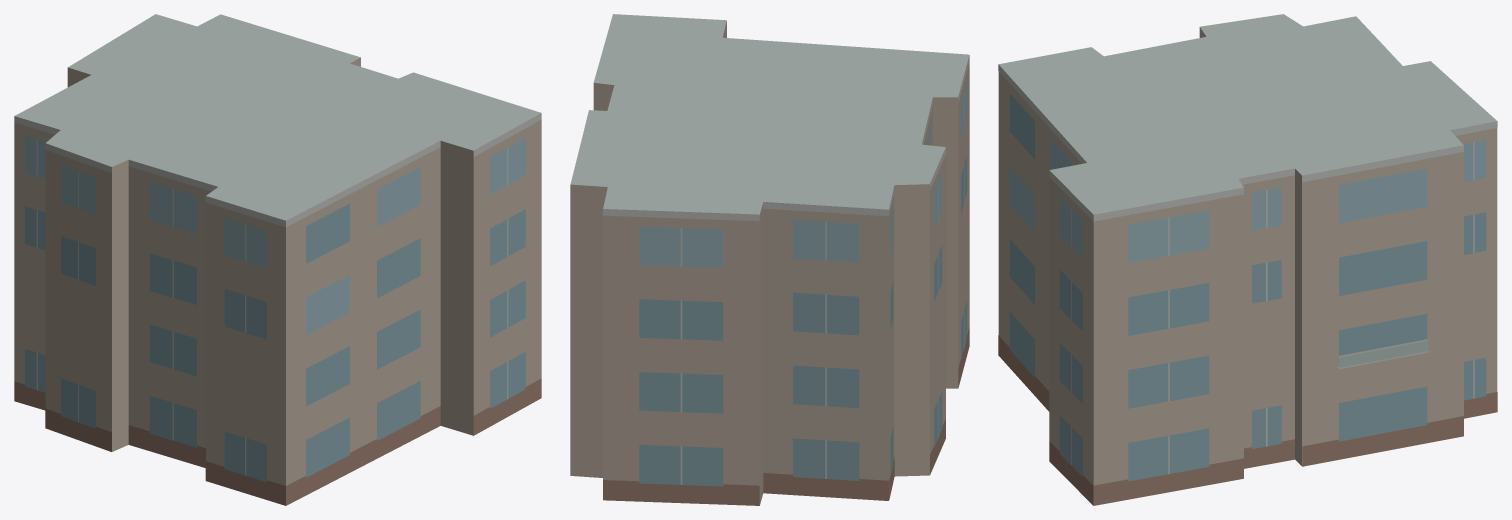
The model's file is survey-upis-32772873.glb.
3 renders of one model, left to right at view 1: azimuth 30°, elevation 25°; view 2: azimuth 150°, elevation 25°; view 3: azimuth 270°, elevation 25°, orthographic. The views are drawn at different scales.
Visible parts, largest first — view 1: survey-upis-32772873.tmp; view 2: survey-upis-32772873.tmp; view 3: survey-upis-32772873.tmp.
Part boxes in pixels (box(x1,y1,x2,y2)): survey-upis-32772873.tmp: box(14, 14, 541, 505); survey-upis-32772873.tmp: box(570, 14, 969, 505); survey-upis-32772873.tmp: box(998, 14, 1497, 505).
Size of the model in its own units: 15.7 by 10.6 by 16.48.
